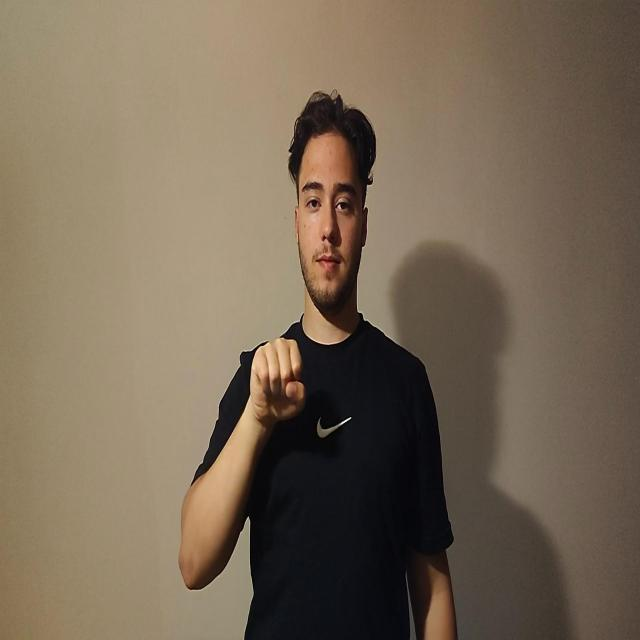yes: (249, 336, 306, 430)
